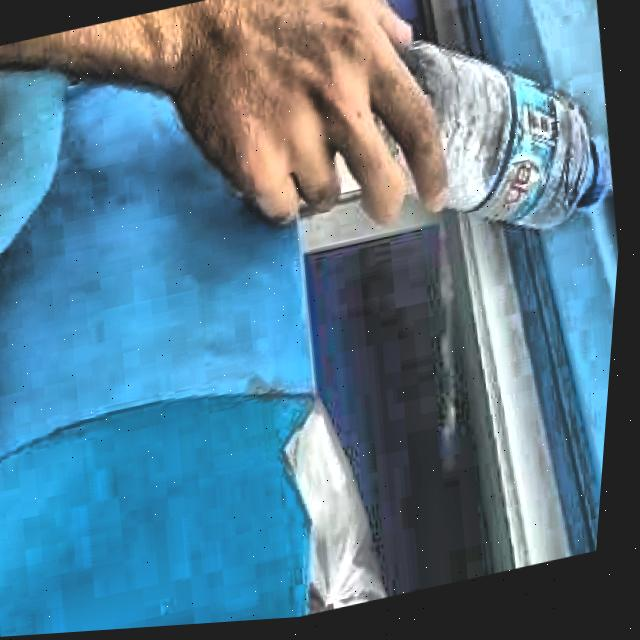plastic: (405, 46, 608, 239)
